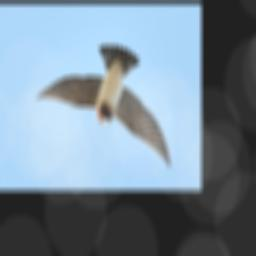Swallow: (35, 44, 172, 169)
